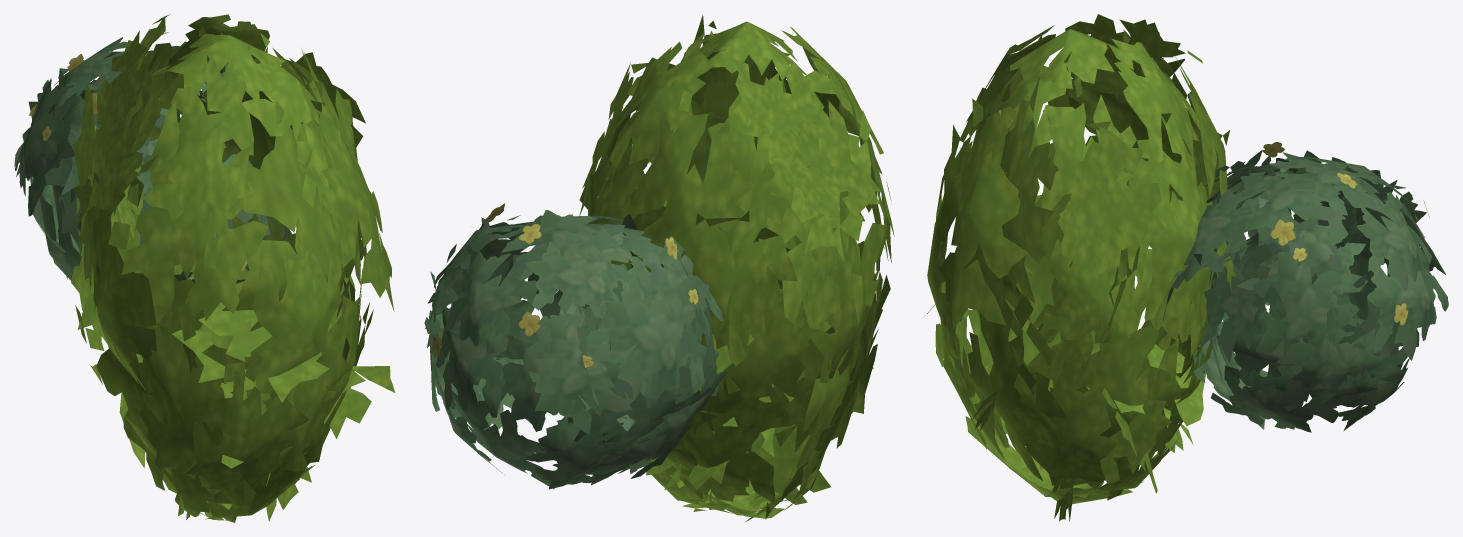
The model's file is pref_sm_beach_bk_pointmol_grassplant03_lv1.fbx.
3 renders of one model, left to right at view 1: azimuth 30°, elevation 25°; view 2: azimuth 150°, elevation 25°; view 3: azimuth 270°, elevation 25°, orthographic. The views are drawn at different scales.
Parts seen in each view (by area): view 1: pref_sm_beach_bk_pointmol_grassplant03_lv1; view 2: pref_sm_beach_bk_pointmol_grassplant03_lv1; view 3: pref_sm_beach_bk_pointmol_grassplant03_lv1.
Part boxes in pixels (<box>): pref_sm_beach_bk_pointmol_grassplant03_lv1: <box>14,14,395,522</box>; pref_sm_beach_bk_pointmol_grassplant03_lv1: <box>424,15,894,521</box>; pref_sm_beach_bk_pointmol_grassplant03_lv1: <box>924,14,1448,521</box>.
Size of the model in its own units: 3.99 by 5.97 by 5.98.
